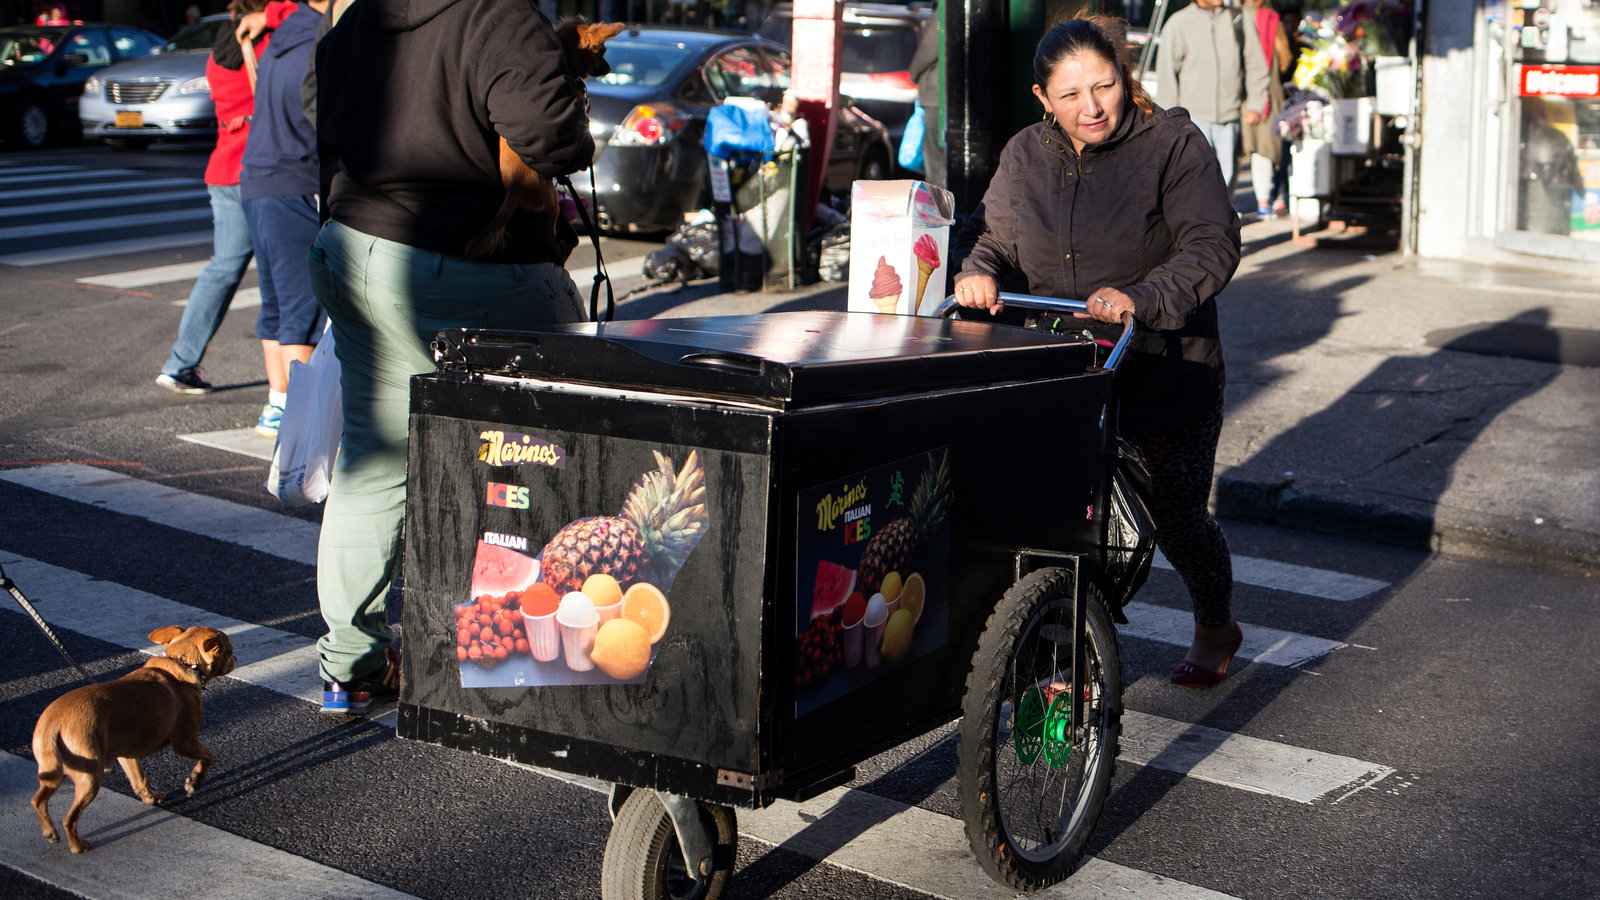car: (86, 15, 212, 137)
cart: (391, 286, 1141, 896)
dog: (19, 626, 249, 848)
pedestrian lane: (8, 429, 262, 618)
person: (321, 2, 558, 727), (990, 20, 1242, 685)
